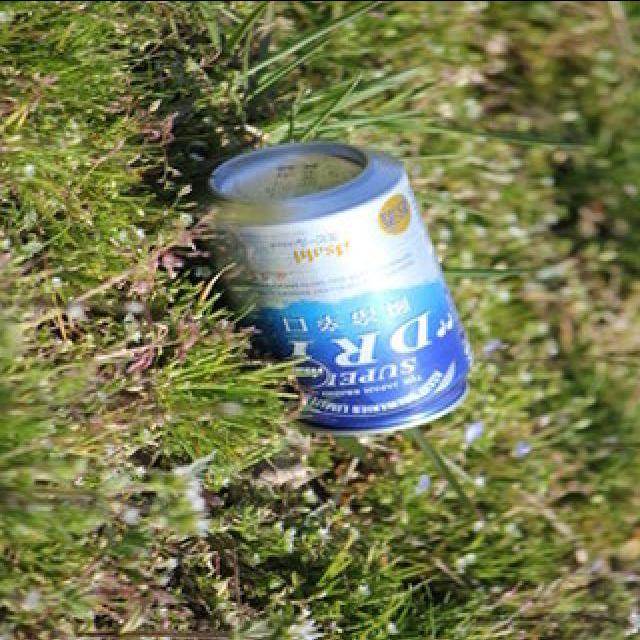can: (203, 138, 469, 438)
